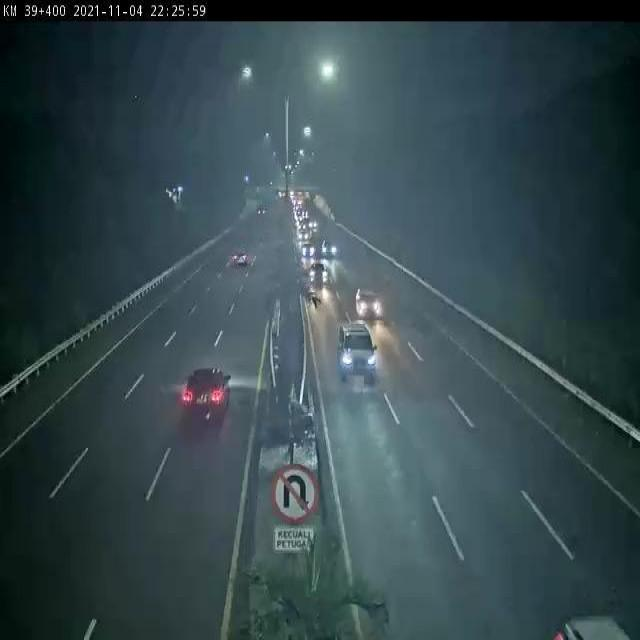car: (336, 322, 377, 382), (187, 369, 231, 419), (355, 289, 381, 323), (309, 263, 327, 284), (301, 241, 317, 260), (321, 242, 336, 258), (236, 251, 246, 264), (298, 229, 308, 239), (309, 219, 317, 229)
